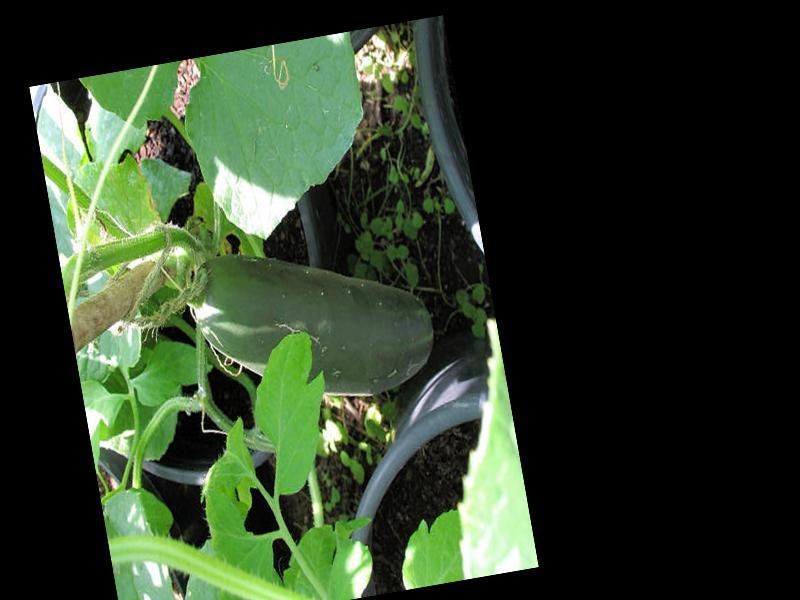Cucumber: (184, 221, 442, 421)
